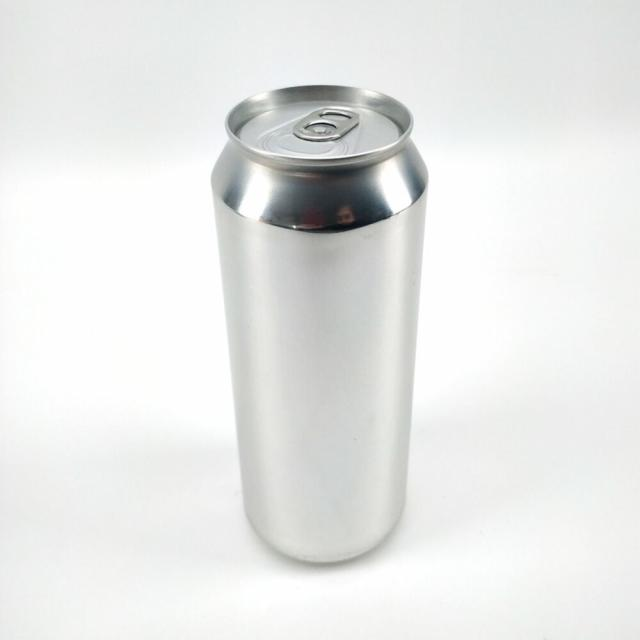non-organic waste: (200, 76, 454, 576)
